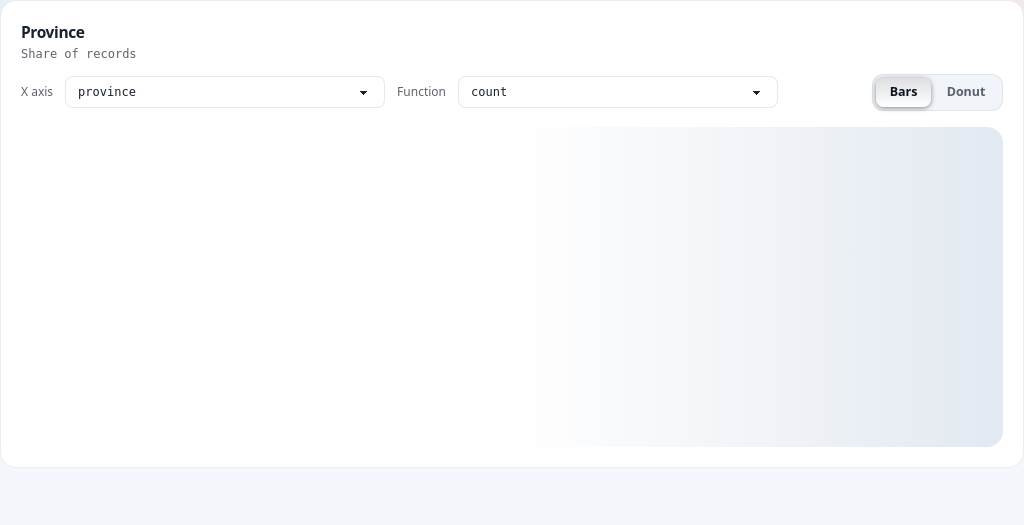
Scenario: custom aggregation controls › every select has its visible control label
Expected: the dropdown labelled "X axis" shows "province", x1=65 y1=76 x2=385 y2=108
Step 1. Select "sum" in the dropdown labelled "Function" → (618, 92), box x1=458 y1=76 x2=778 y2=108
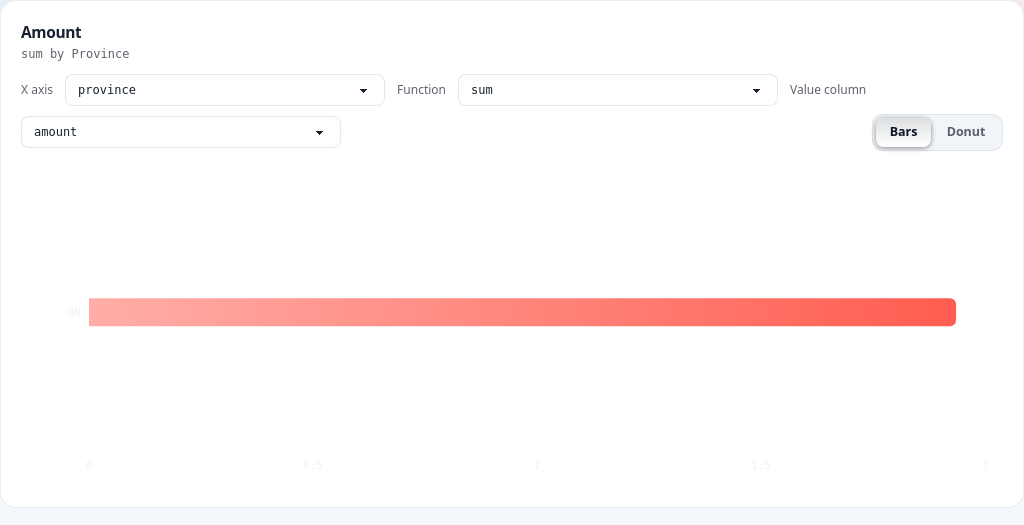
Expected: the dropdown labelled "Value column" shows "amount", x1=21 y1=116 x2=341 y2=148
